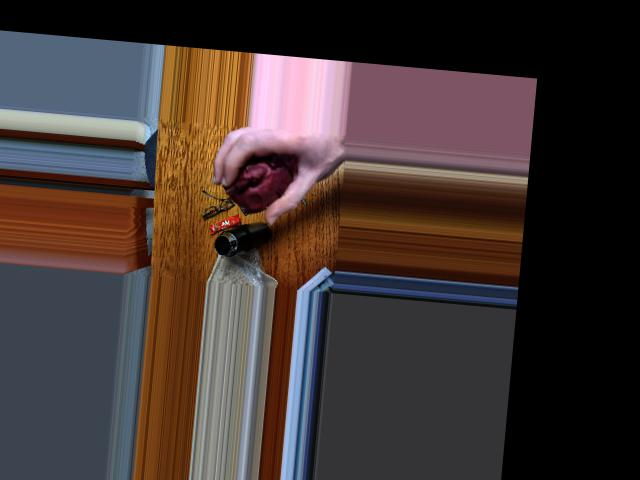onion: (231, 151, 299, 202)
